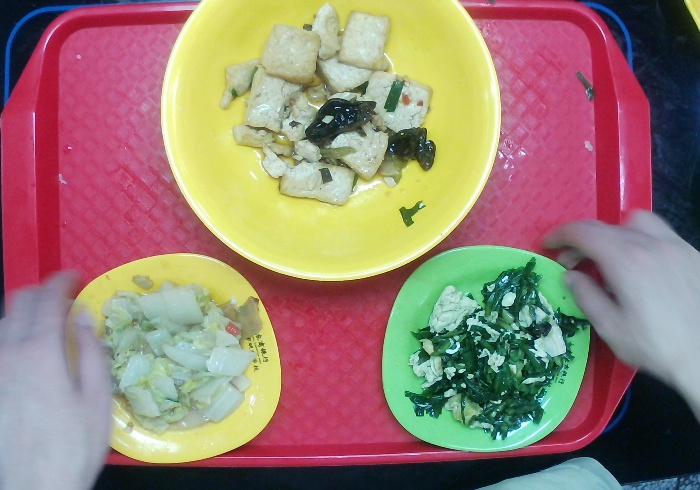YKMZ-Huang_Se_Fang_Die: (62, 241, 294, 479)
YKMZ-Huang_Se_Tang_Wan: (156, 1, 514, 289)
YKMZ-Lv_Se_Fang_Die: (369, 224, 601, 462)
